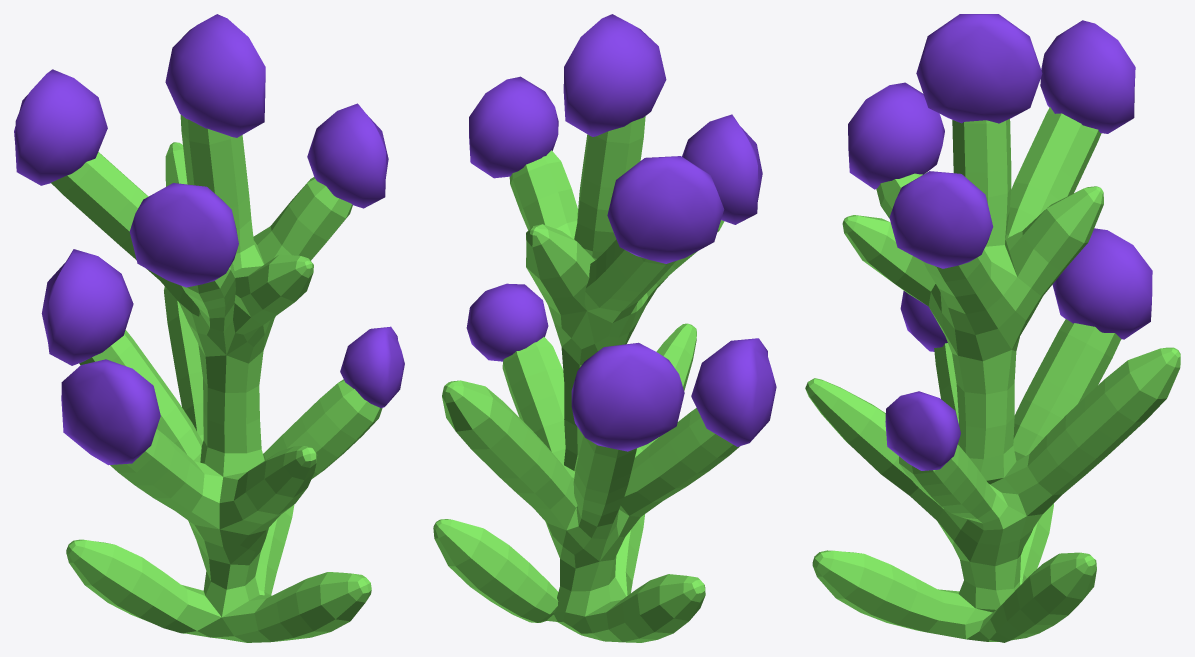
File: monkshood_variant1.fbx
3 views of the same model, side by side, from view 1: azimuth 30°, elevation 25°; view 2: azimuth 150°, elevation 25°; view 3: azimuth 270°, elevation 25° (orthographic).
Visible parts, largest first — view 1: Vert, Icosphere, Icosphere.003, Icosphere.006, Icosphere.001, Icosphere.005, Icosphere.002, Icosphere.004; view 2: Vert, Icosphere.001, Icosphere.005, Icosphere, Icosphere.002, Icosphere.006, Icosphere.003, Icosphere.004; view 3: Vert, Icosphere, Icosphere.001, Icosphere.005, Icosphere.002, Icosphere.003, Icosphere.004, Icosphere.006.
Part boxes in pixels (x1,y1,x2,y2): Vert: [51, 115, 382, 642]; Icosphere: [165, 14, 265, 137]; Icosphere.003: [129, 183, 238, 287]; Icosphere.006: [61, 359, 160, 465]; Icosphere.001: [14, 69, 107, 185]; Icosphere.005: [41, 249, 133, 365]; Icosphere.002: [307, 103, 388, 208]; Icosphere.004: [340, 326, 404, 408]; Vert: [433, 116, 739, 642]; Icosphere.001: [607, 156, 724, 263]; Icosphere.005: [571, 342, 684, 451]; Icosphere: [563, 14, 666, 136]; Icosphere.002: [469, 76, 558, 178]; Icosphere.006: [691, 338, 776, 446]; Icosphere.003: [682, 114, 762, 224]; Icosphere.004: [466, 283, 548, 361]; Vert: [805, 107, 1180, 642]; Icosphere: [916, 14, 1042, 123]; Icosphere.001: [1040, 20, 1135, 133]; Icosphere.005: [1052, 228, 1152, 339]; Icosphere.002: [889, 171, 993, 268]; Icosphere.003: [848, 82, 944, 189]; Icosphere.004: [885, 391, 960, 470]; Icosphere.006: [900, 291, 947, 351].
Bounding box in the file's own units: 45.33 × 84.63 × 46.95.
